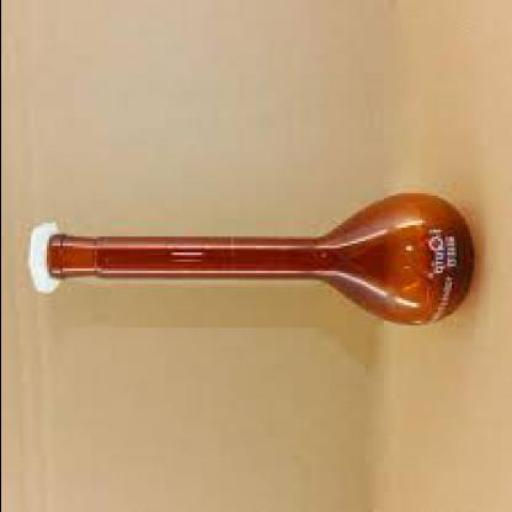glass: (43, 191, 469, 323)
plastic: (27, 216, 57, 291)
